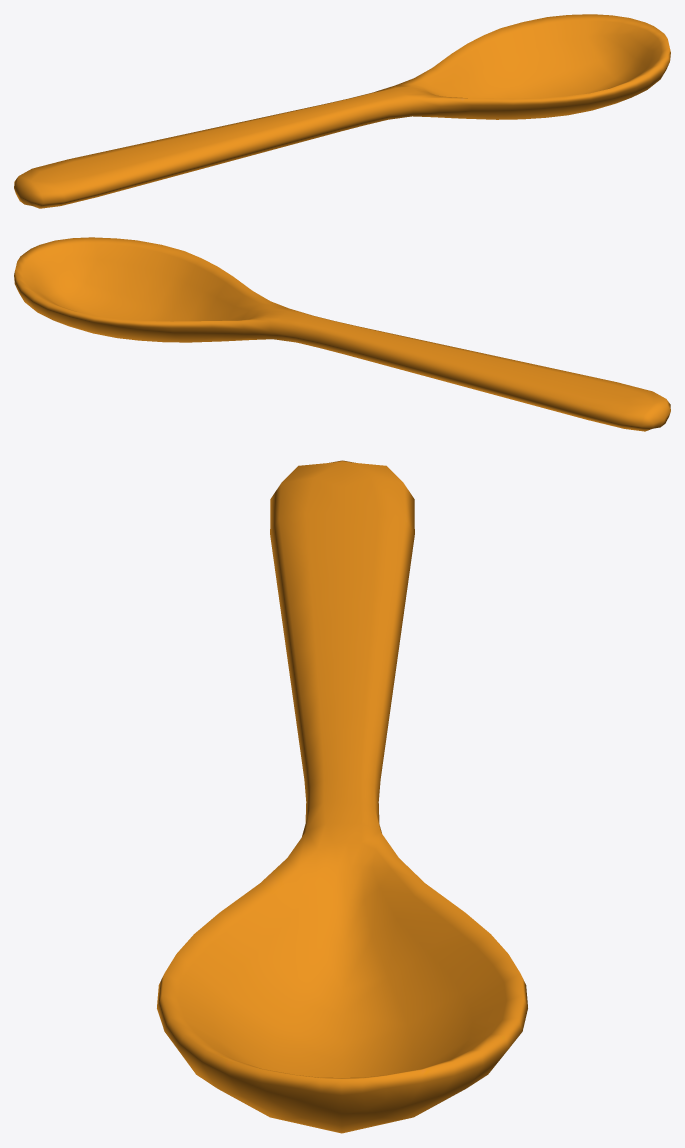
File: cereal_spoon.fbx
The picture shows the model from 3 angles, top to bottom: view 1: azimuth 30°, elevation 25°; view 2: azimuth 150°, elevation 25°; view 3: azimuth 270°, elevation 25°; orthographic projection. The views are drawn at different scales.
Visible parts, largest first — view 1: cereal_spoon; view 2: cereal_spoon; view 3: cereal_spoon.
Boxes of the visible parts, box(x1,y1,x2,y2) form: cereal_spoon: box(14, 14, 670, 208); cereal_spoon: box(14, 237, 670, 431); cereal_spoon: box(157, 460, 527, 1133).
Bounding box in the file's own units: 1697 × 138 × 427.
1 material, 1 textured.
